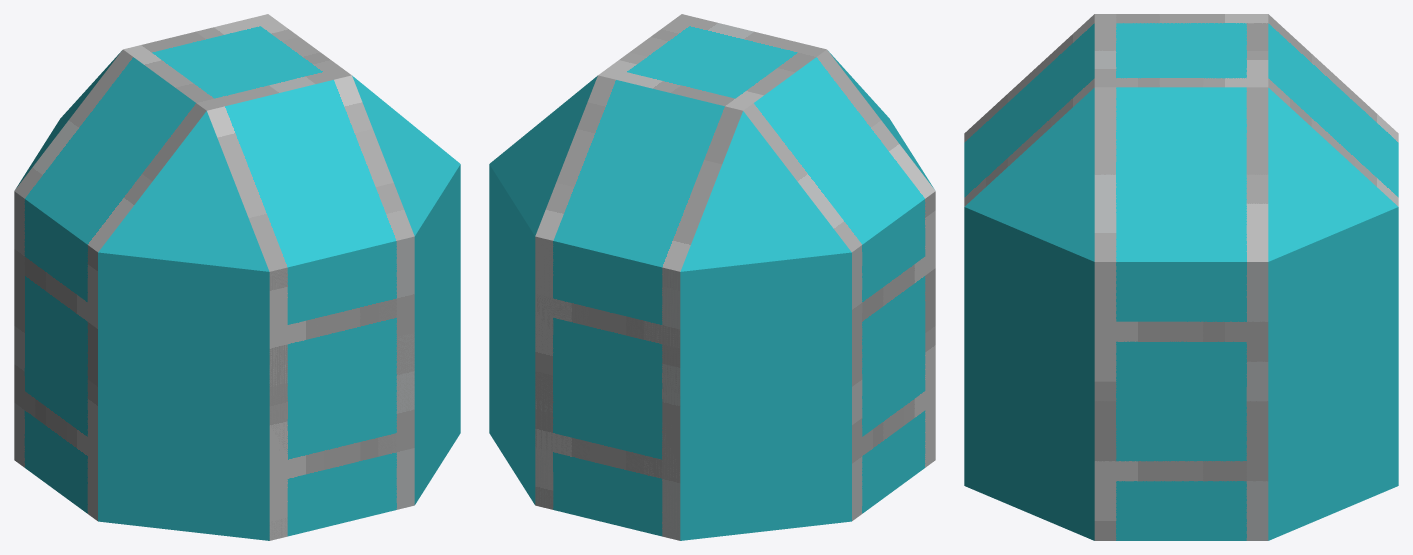
The model's file is viaduct_connected.obj.
3 renders of one model, left to right at view 1: azimuth 30°, elevation 25°; view 2: azimuth 150°, elevation 25°; view 3: azimuth 270°, elevation 25°, orthographic. The views are drawn at different scales.
Parts seen in each view (by area): view 1: Cube; view 2: Cube; view 3: Cube.
Part boxes in pixels (x1,y1,x2,y2): Cube: (14, 14, 460, 540); Cube: (489, 14, 935, 540); Cube: (964, 14, 1398, 540).
Bounding box in the file's own units: 0.9875 × 1 × 0.9875.
